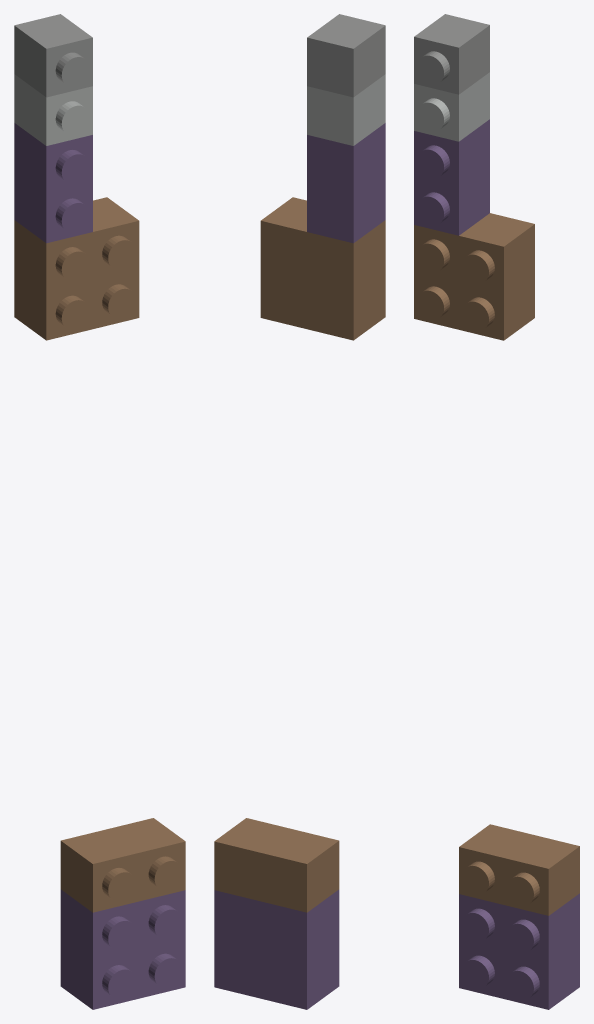
The model's file is current.glb.
The picture shows the model from 3 angles, left to right: view 1: azimuth 30°, elevation 25°; view 2: azimuth 150°, elevation 25°; view 3: azimuth 330°, elevation 25°; orthographic projection. The views are drawn at different scales.
Visible parts, largest first — view 1: world; view 2: world; view 3: world.
Boxes of the visible parts, x1,y1,x2,y2 form: world: (14, 14, 185, 1009); world: (214, 14, 385, 1009); world: (414, 14, 579, 1009).
Bounding box in the file's own units: 24 × 160 × 11.4.
